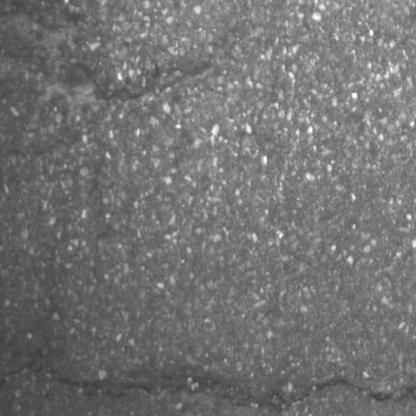Cracks: (0, 36, 195, 164), (0, 360, 416, 415), (0, 0, 77, 38)
